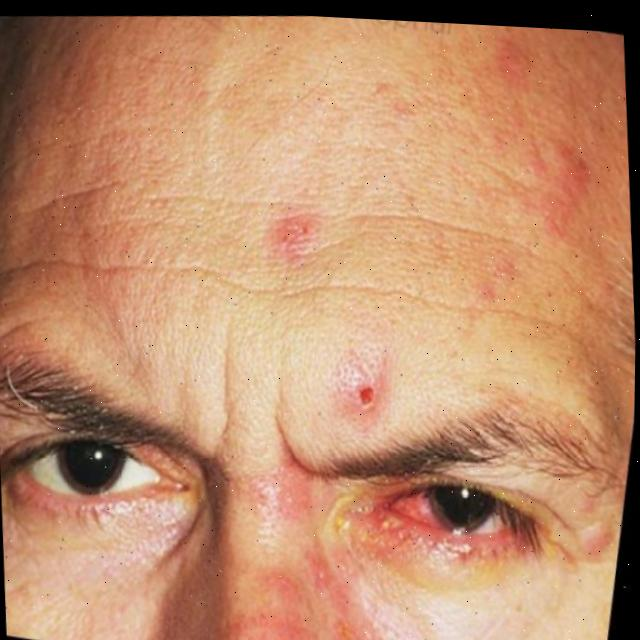Shingles: (542, 134, 598, 240), (326, 349, 397, 430), (262, 198, 322, 280)
